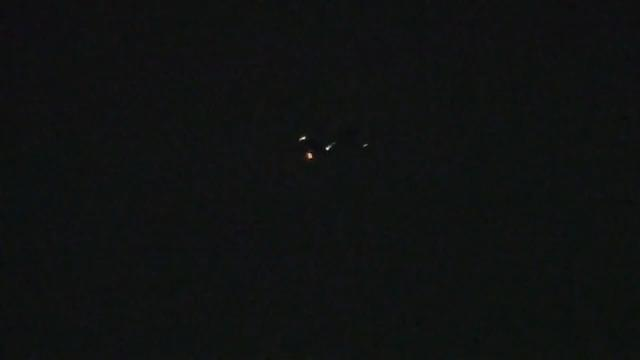Plane: (272, 129, 345, 172)
